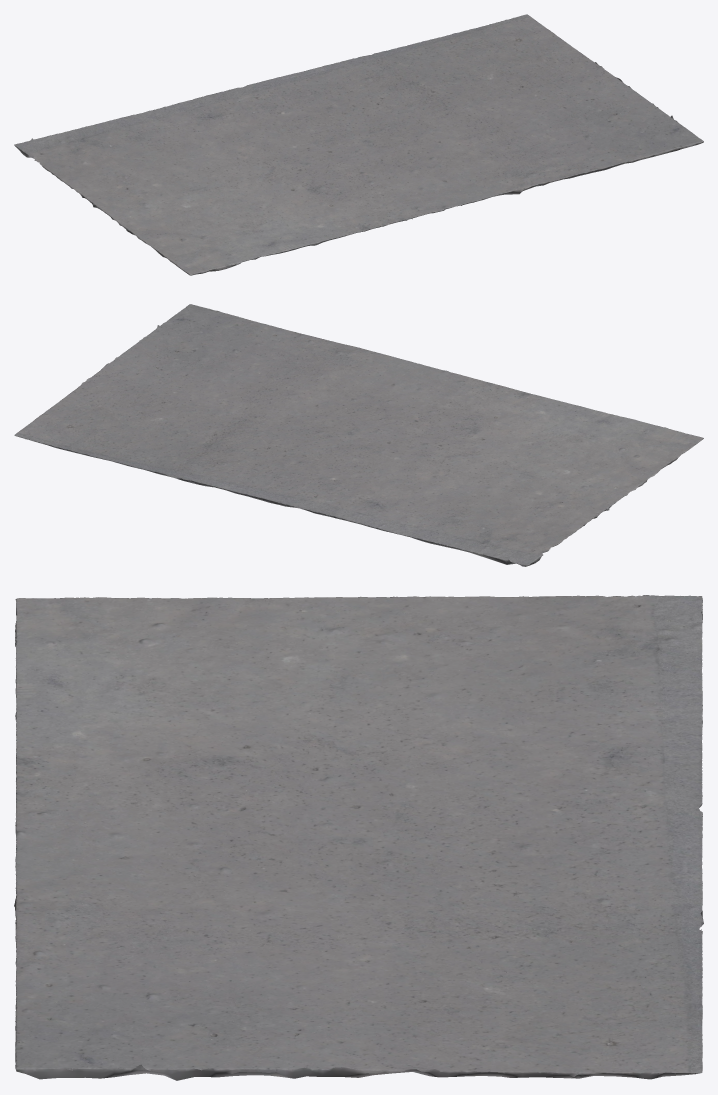
The model's file is sf-damaged-rough-dirty-asphalt-road-ab4228.glb.
3 views of the same model, one above another, from view 1: azimuth 30°, elevation 25°; view 2: azimuth 150°, elevation 25°; view 3: azimuth 270°, elevation 25° (orthographic). The views are drawn at different scales.
Visible parts, largest first — view 1: meshNode_Material_u1_v1_0; view 2: meshNode_Material_u1_v1_0; view 3: meshNode_Material_u1_v1_0.
Part boxes in pixels (x1,y1,x2,y2): meshNode_Material_u1_v1_0: (14, 14, 703, 275); meshNode_Material_u1_v1_0: (14, 304, 703, 566); meshNode_Material_u1_v1_0: (14, 595, 703, 1080).
Size of the model in its own units: 3.66 by 0.0984 by 2.18.
Materials: 1 (1 with a texture image).
